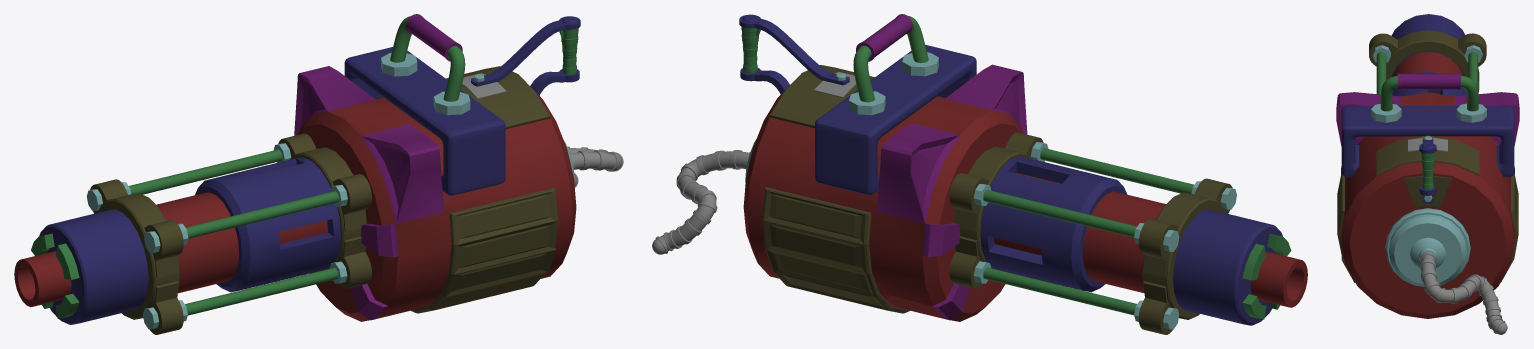
The model's file is Armes3.fbx.
3 renders of one model, left to right at view 1: azimuth 30°, elevation 25°; view 2: azimuth 150°, elevation 25°; view 3: azimuth 270°, elevation 25°, orthographic. The views are drawn at different scales.
Visible parts, largest first — view 1: polySurface19 (×3), polySurface2, polySurface14, pPlane27, polySurface11, pCylinder3_polySurface4_polySurface8, pCylinder2, polySurface3, polySurface12, pCylinder4, pCylinder45, pCylinder42 (+11 smaller); view 2: polySurface19 (×3), polySurface2, polySurface14, pPlane27, polySurface11, pCylinder3_polySurface4_polySurface8, pCylinder2, pCylinder33, polySurface12, polySurface3, pCylinder42, pCylinder40 (+11 smaller); view 3: polySurface19 (×4), pPlane27, pCylinder33, polySurface3, polySurface11, pCylinder2, polySurface16, polySurface14, pCylinder3_polySurface4_polySurface8, polySurface15, polySurface20, polySurface2 (+10 smaller).
Part boxes in pixels (x1,y1,x2,y2): polySurface19 (×3): (294, 66, 576, 321); polySurface2: (195, 157, 340, 292); polySurface14: (411, 187, 557, 313); pPlane27: (344, 47, 505, 195); polySurface11: (39, 209, 148, 324); pCylinder3_polySurface4_polySurface8: (90, 133, 371, 334); pCylinder2: (156, 192, 327, 293); polySurface3: (97, 193, 179, 319); polySurface12: (14, 251, 71, 307); pCylinder4: (185, 191, 338, 238); pCylinder45: (185, 267, 338, 315); pCylinder42: (129, 149, 282, 194); polySurface19 (×3): (743, 64, 1027, 321); polySurface2: (980, 156, 1127, 292); polySurface14: (762, 187, 909, 313); pPlane27: (815, 45, 976, 195); polySurface11: (1173, 209, 1282, 325); pCylinder3_polySurface4_polySurface8: (949, 132, 1232, 334); pCylinder2: (994, 173, 1165, 292); pCylinder33: (652, 150, 750, 254); polySurface12: (1250, 251, 1307, 307); polySurface3: (1142, 192, 1225, 319); pCylinder42: (983, 190, 1137, 237); pCylinder40: (983, 267, 1136, 315); polySurface19 (×4): (1336, 92, 1519, 318); pPlane27: (1341, 106, 1514, 177); pCylinder33: (1420, 252, 1507, 334); polySurface3: (1386, 30, 1468, 79); polySurface11: (1391, 14, 1465, 76); pCylinder2: (1392, 52, 1463, 94); polySurface16: (1397, 73, 1460, 89); polySurface14: (1337, 173, 1518, 282); pCylinder3_polySurface4_polySurface8: (1369, 33, 1486, 92); polySurface15: (1380, 75, 1478, 111); polySurface20: (1404, 176, 1451, 207); polySurface2: (1392, 71, 1466, 96).
Size of the model in its own units: 10.98 by 4.67 by 3.58.
